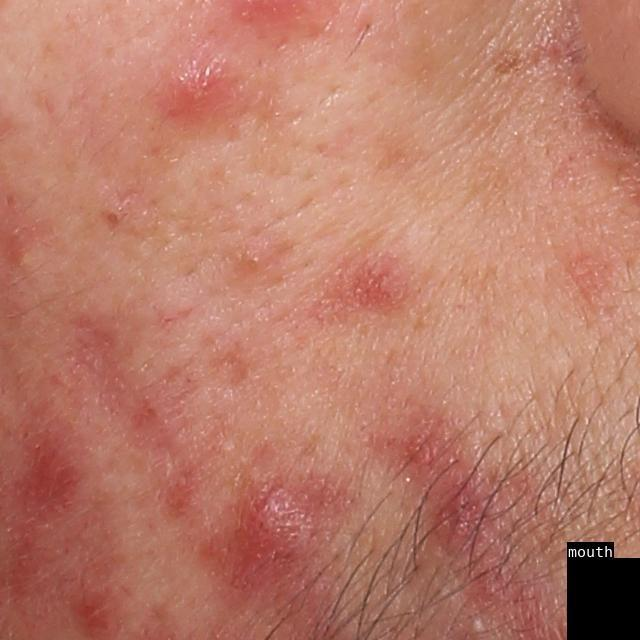atrophic_scar: (211, 349, 252, 392)
comedo: (459, 612, 489, 640)
papule: (224, 473, 320, 581), (165, 62, 235, 124), (432, 474, 488, 548), (350, 265, 413, 321), (389, 419, 446, 473), (72, 592, 116, 640)
